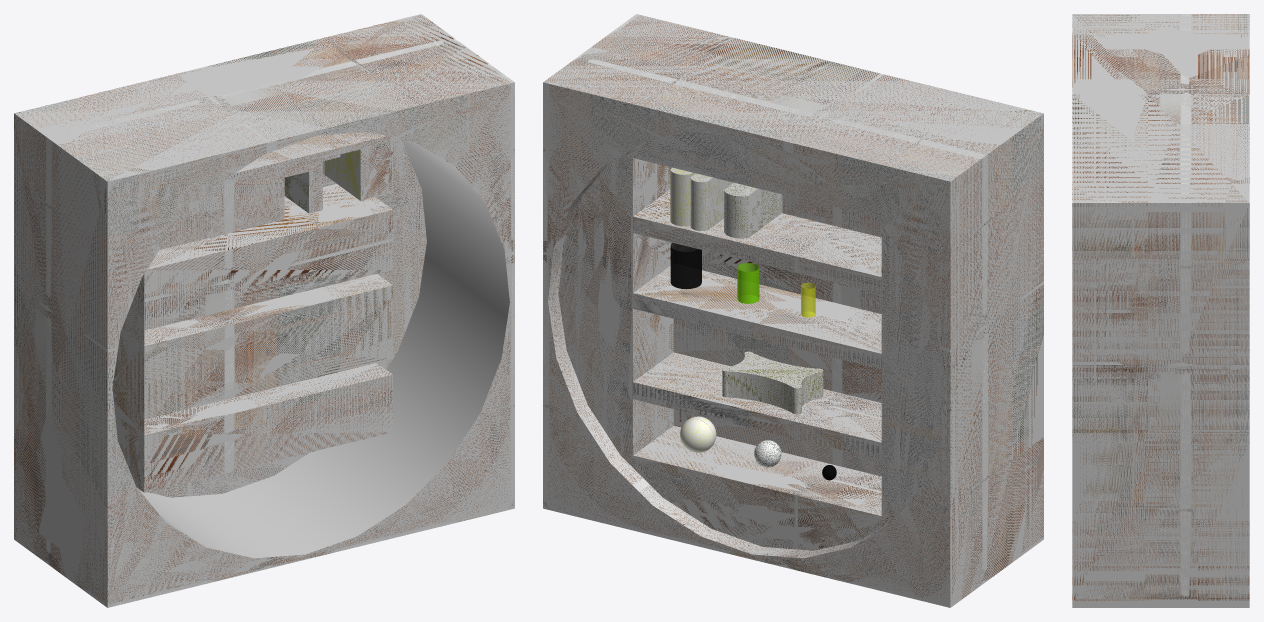
3 views of the same model, side by side, from view 1: azimuth 30°, elevation 25°; view 2: azimuth 150°, elevation 25°; view 3: azimuth 270°, elevation 25° (orthographic). The views are drawn at different scales.
Parts seen in each view (by area): view 1: mesh1_mesh1-geometry; view 2: mesh1_mesh1-geometry, mesh4_mesh4-geometry, mesh5_mesh5-geometry, mesh2_mesh2-geometry; view 3: mesh1_mesh1-geometry.
Part boxes in pixels (box(x1,y1,x2,y2)): mesh1_mesh1-geometry: box(14, 14, 514, 607); mesh1_mesh1-geometry: box(543, 14, 1043, 607); mesh4_mesh4-geometry: box(670, 242, 701, 289); mesh5_mesh5-geometry: box(680, 416, 716, 452); mesh2_mesh2-geometry: box(737, 263, 759, 303); mesh1_mesh1-geometry: box(1072, 14, 1249, 607).
Size of the model in its own units: 0.6808 by 0.6808 by 0.2703.
